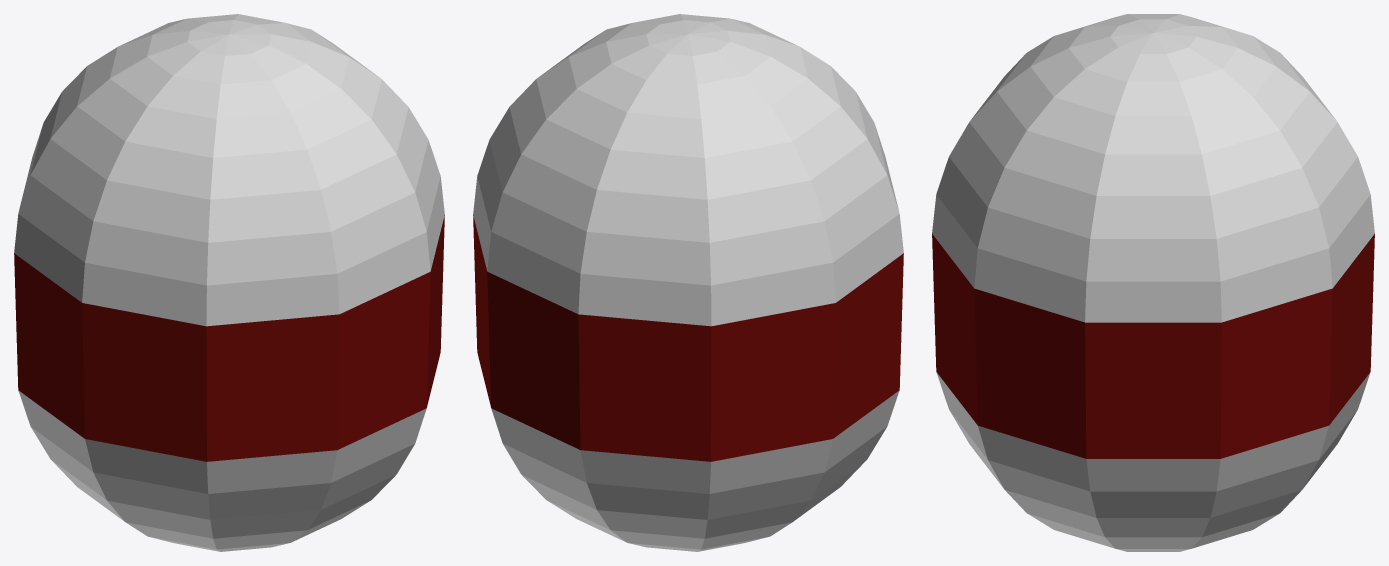
File: BigBoy.fbx
3 views of the same model, side by side, from view 1: azimuth 30°, elevation 25°; view 2: azimuth 150°, elevation 25°; view 3: azimuth 270°, elevation 25° (orthographic).
Visible parts, largest first — view 1: Big boy; view 2: Big boy; view 3: Big boy.
Part boxes in pixels (x1,y1,x2,y2): Big boy: (14, 14, 444, 551); Big boy: (473, 14, 903, 551); Big boy: (932, 14, 1374, 551).
Bounding box in the file's own units: 3.92 × 4.12 × 5.14.
